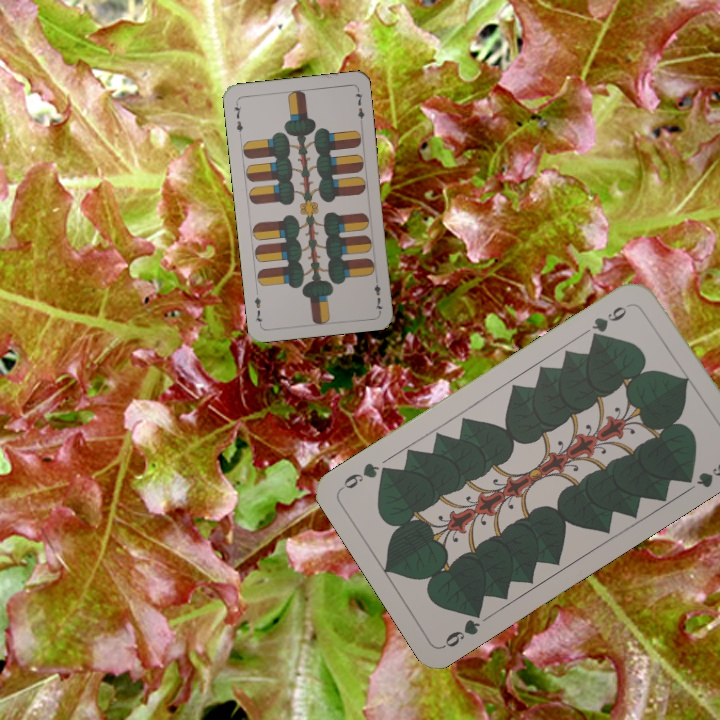E7: (230, 98, 246, 139), (370, 273, 385, 314)
G9: (439, 603, 485, 651), (587, 299, 636, 343)
